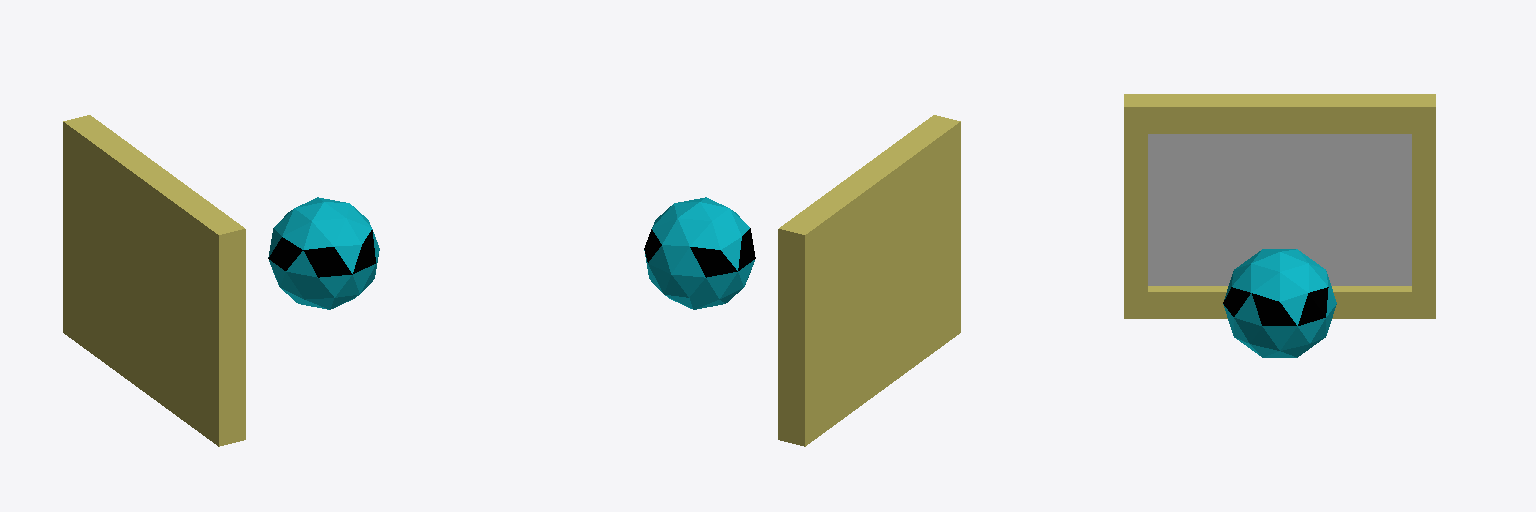
Rendered from Phainon.obj.
3 views of the same model, side by side, from view 1: azimuth 30°, elevation 25°; view 2: azimuth 150°, elevation 25°; view 3: azimuth 270°, elevation 25° (orthographic).
Parts seen in each view (by area): view 1: Cube, Ball; view 2: Cube, Ball; view 3: Cube, Ball.
Boxes of the visible parts, <box> form: Cube: <box>63,115,245,446</box>; Ball: <box>268,197,379,309</box>; Cube: <box>778,115,960,446</box>; Ball: <box>644,197,755,309</box>; Cube: <box>1124,94,1435,318</box>; Ball: <box>1223,249,1336,357</box>.
Bounding box in the file's own units: 3.42 × 3 × 4.